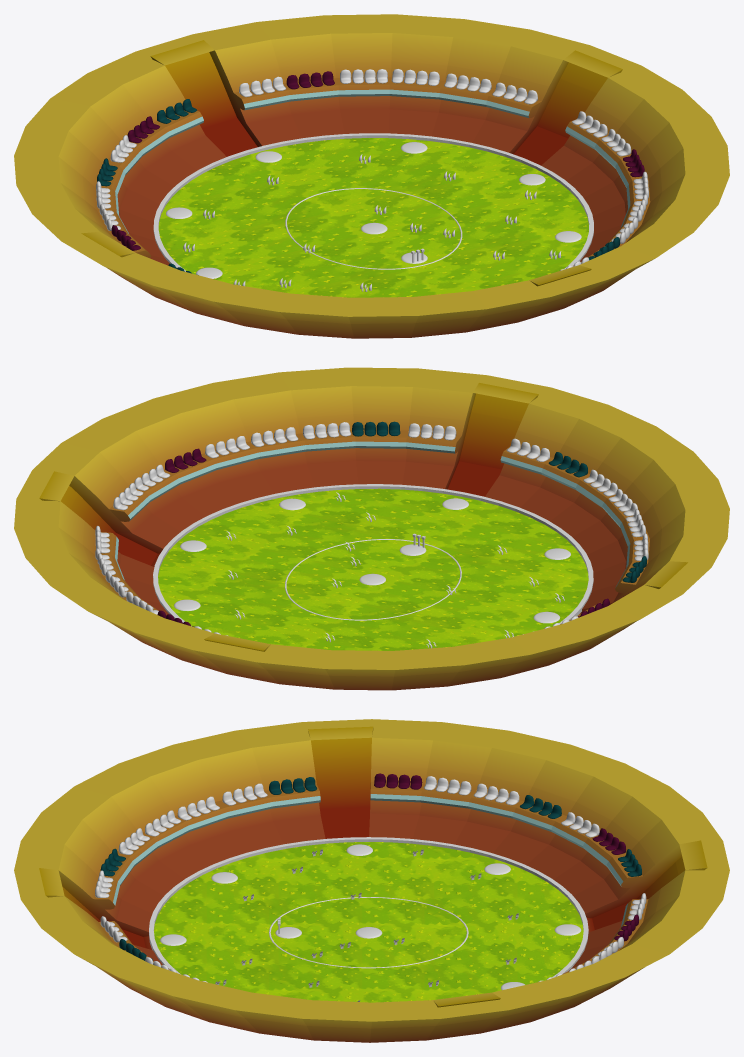
File: поле .fbx
3 renders of one model, top to bottom at view 1: azimuth 30°, elevation 25°; view 2: azimuth 150°, elevation 25°; view 3: azimuth 270°, elevation 25°, orthographic.
Parts seen in each view (by area): view 1: Cylinder.008, Cylinder, Cylinder.001, Cube.034, Cube.020, Torus, Cube.016, Cube.017, Cube.018, Cube.019; view 2: Cylinder.008, Cylinder, Cylinder.001, Cube.034, Cube.020, Torus, Cube.027, Cube.025, Cube.023; view 3: Cylinder.008, Cylinder, Cube.034, Cylinder.001, Cube.020, Torus, Cube.036, Cube.033, Cube.039.
Boxes of the visible parts, x1,y1,x2,y2 form: Cylinder.008: [14, 14, 729, 338]; Cylinder: [158, 138, 588, 297]; Cylinder.001: [153, 133, 593, 271]; Cube.034: [97, 71, 644, 275]; Cube.020: [96, 111, 647, 221]; Torus: [285, 188, 462, 269]; Cube.016: [340, 69, 387, 83]; Cube.017: [391, 69, 439, 85]; Cube.018: [444, 73, 491, 93]; Cube.019: [492, 82, 537, 104]; Cylinder.008: [14, 367, 729, 690]; Cylinder: [158, 488, 588, 650]; Cylinder.001: [153, 484, 593, 626]; Cube.034: [157, 421, 646, 626]; Cube.020: [113, 427, 645, 637]; Torus: [284, 539, 461, 620]; Cube.027: [408, 423, 456, 440]; Cube.025: [302, 422, 351, 439]; Cube.023: [205, 436, 249, 458]; Cylinder.008: [14, 719, 729, 1042]; Cylinder: [154, 842, 583, 1002]; Cube.034: [100, 773, 641, 960]; Cylinder.001: [149, 837, 588, 977]; Cube.020: [95, 783, 519, 982]; Torus: [269, 897, 468, 968]; Cube.036: [424, 776, 471, 795]; Cube.033: [222, 783, 267, 805]; Cube.039: [561, 812, 599, 837].
Size of the model in its own units: 15855 by 1699 by 15855.
